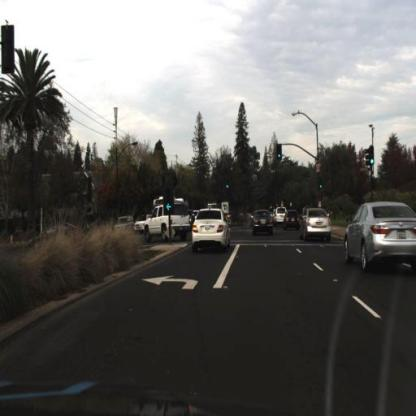car: (342, 196, 416, 272), (142, 202, 192, 244), (191, 205, 231, 249), (148, 208, 192, 238), (302, 209, 332, 242), (251, 210, 276, 238), (282, 208, 302, 234), (277, 206, 287, 228)
trafficLight: (276, 146, 284, 171), (226, 176, 231, 191)
trafficLight-Green: (370, 145, 375, 168), (319, 179, 324, 193)
trafficLight-GreenLeft: (164, 186, 174, 216)
truck: (155, 197, 186, 210)
